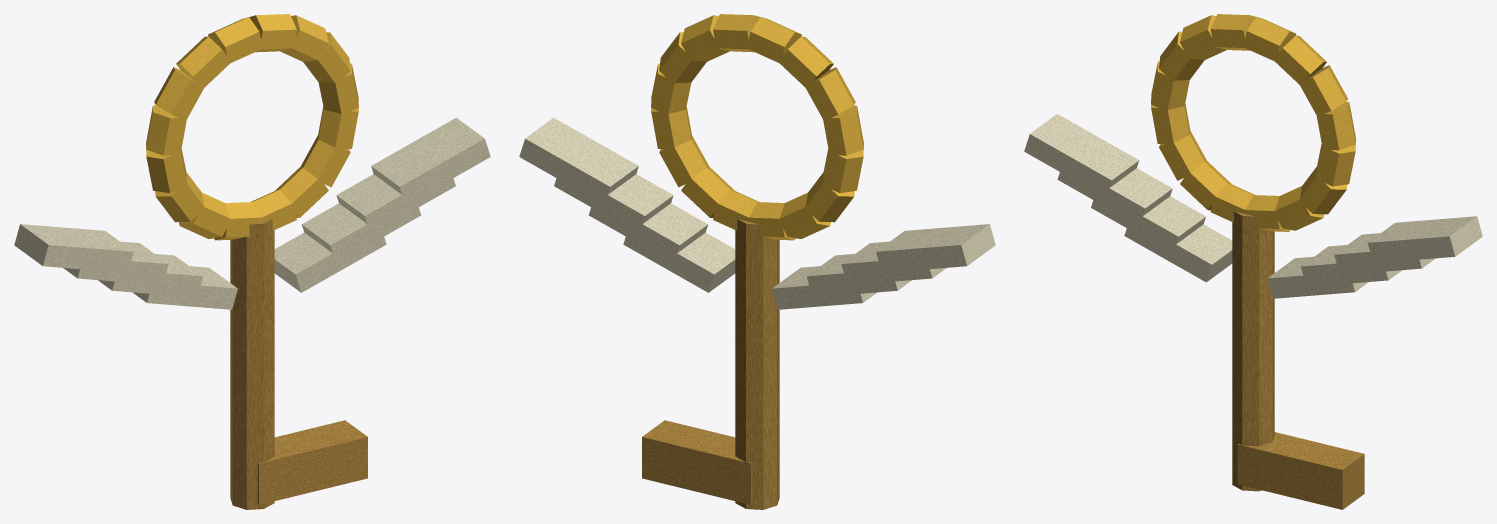
The model's file is winged_key.glb.
3 views of the same model, side by side, from view 1: azimuth 30°, elevation 25°; view 2: azimuth 150°, elevation 25°; view 3: azimuth 330°, elevation 25° (orthographic). The views are drawn at different scales.
Parts seen in each view (by area): view 1: wing (×8), stem, tooth, handle5, handle6, handle7, handle4, handle14, handle8, handle13, handle3, handle9 (+7 smaller); view 2: wing (×8), stem, tooth, handle5, handle6, handle7, handle4, handle13, handle14, handle8, handle3, handle2 (+7 smaller); view 3: wing (×8), stem, tooth, handle2, handle1, handle0, handle3, handle9, handle15, handle4, handle10, handle5 (+7 smaller).
Boxes of the visible parts, x1,y1,x2,y2 form: wing (×8): [14, 117, 490, 309]; stem: [230, 219, 274, 509]; tooth: [257, 420, 367, 504]; handle5: [176, 36, 231, 88]; handle6: [154, 67, 204, 120]; handle7: [146, 105, 186, 155]; handle4: [208, 17, 260, 63]; handle14: [300, 135, 350, 187]; handle8: [146, 146, 187, 192]; handle13: [275, 166, 328, 217]; handle3: [249, 14, 296, 52]; handle9: [155, 172, 204, 222]; wing (×8): [519, 117, 995, 309]; stem: [735, 219, 779, 509]; tooth: [642, 420, 752, 504]; handle5: [780, 36, 833, 88]; handle6: [806, 67, 855, 120]; handle7: [823, 105, 863, 155]; handle4: [749, 17, 801, 63]; handle13: [681, 166, 734, 217]; handle14: [659, 135, 709, 187]; handle8: [822, 146, 863, 192]; handle3: [713, 14, 760, 52]; handle2: [681, 15, 729, 61]; wing (×8): [1024, 114, 1482, 298]; stem: [1232, 211, 1274, 491]; tooth: [1237, 432, 1364, 509]; handle2: [1273, 35, 1326, 84]; handle1: [1299, 65, 1347, 114]; handle0: [1316, 102, 1355, 150]; handle3: [1243, 17, 1296, 60]; handle9: [1159, 131, 1206, 180]; handle15: [1316, 141, 1355, 186]; handle4: [1210, 14, 1256, 50]; handle10: [1180, 161, 1231, 210]; handle5: [1180, 15, 1226, 59].
Bounding box in the file's own units: 0.9038 × 0.9343 × 0.1.
Materials: 1 (1 with a texture image).
